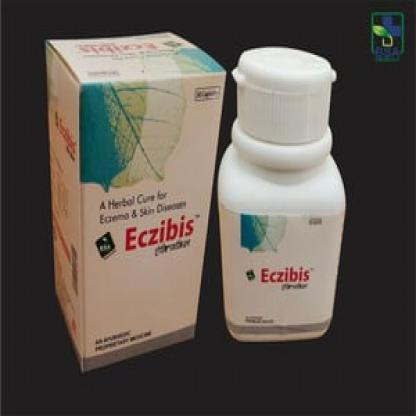jar: (213, 44, 351, 343)
